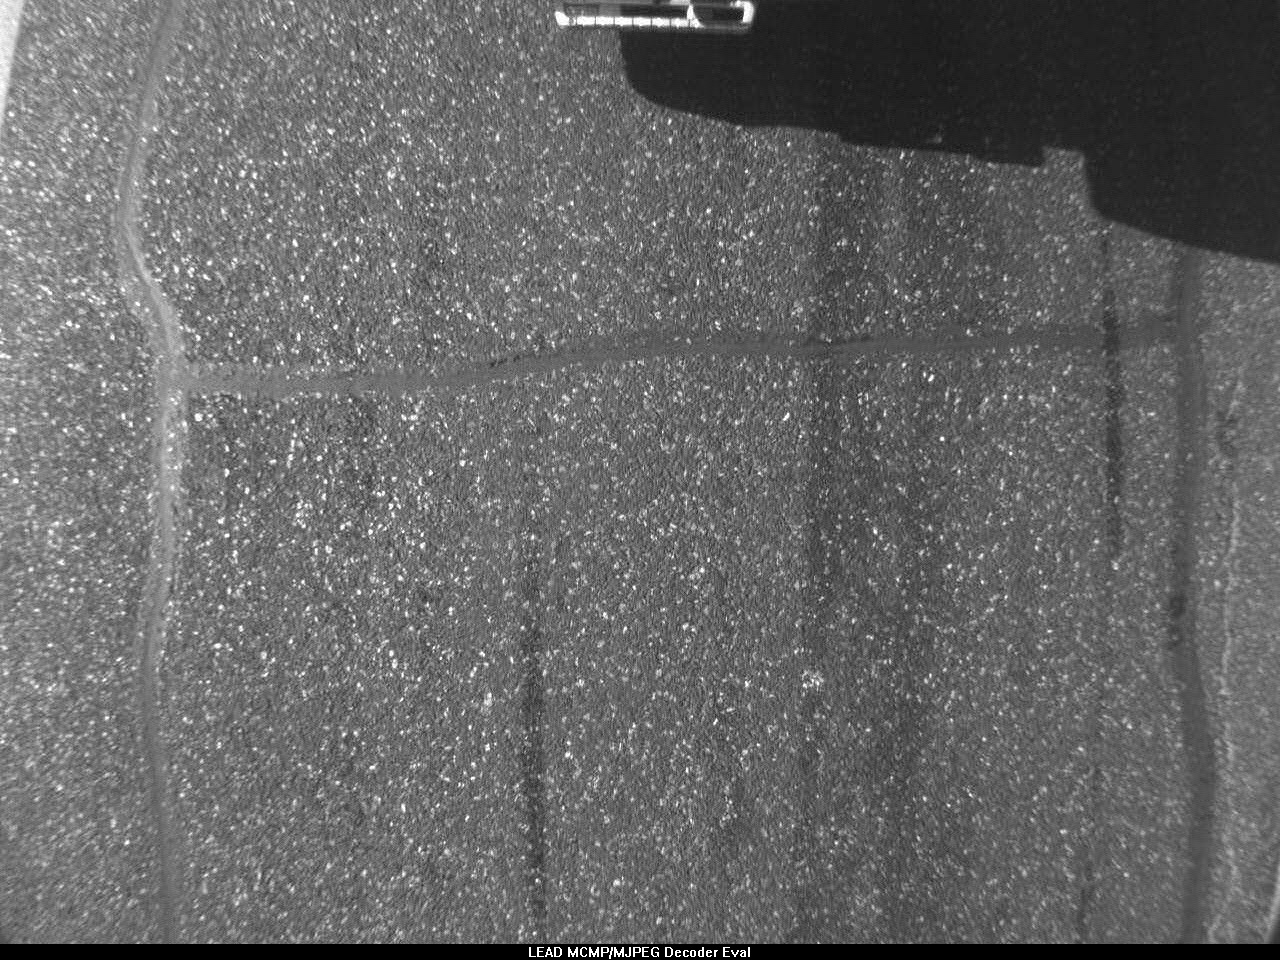sealed: (98, 2, 216, 942), (207, 304, 1154, 410)
